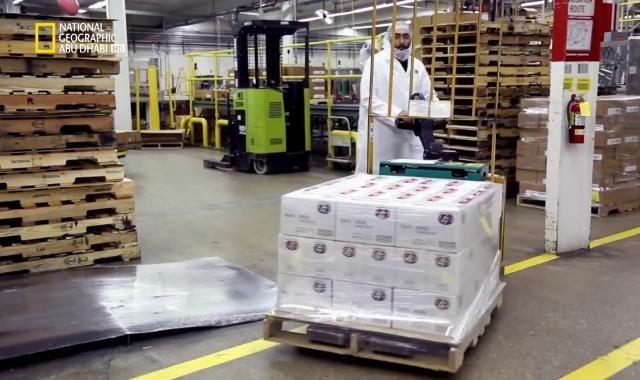Hairnet: (383, 22, 412, 37)
Mask: (392, 44, 413, 60)
No_Apron: (367, 54, 431, 168)
